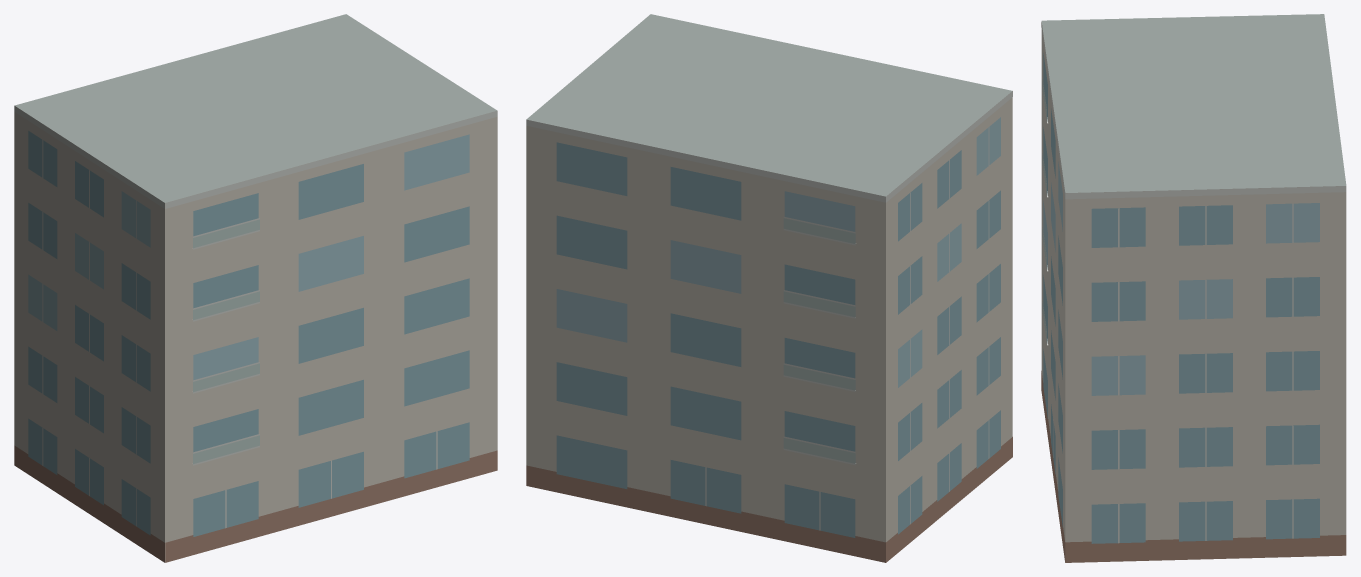
File: survey-upis-33031475.glb
The picture shows the model from 3 angles, left to right: view 1: azimuth 30°, elevation 25°; view 2: azimuth 150°, elevation 25°; view 3: azimuth 270°, elevation 25°; orthographic projection. The views are drawn at different scales.
Visible parts, largest first — view 1: survey-upis-33031475.tmp; view 2: survey-upis-33031475.tmp; view 3: survey-upis-33031475.tmp.
Part boxes in pixels (x1=…): survey-upis-33031475.tmp: x1=14, y1=14, x2=497, y2=562; survey-upis-33031475.tmp: x1=526, y1=14, x2=1012, y2=562; survey-upis-33031475.tmp: x1=1041, y1=14, x2=1346, y2=562.
Size of the model in its own units: 15.02 by 14.45 by 10.81.
